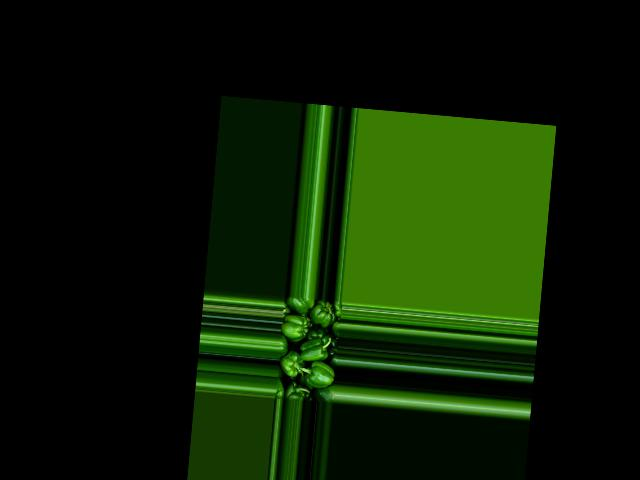bell_pepper: (313, 379, 335, 404)
